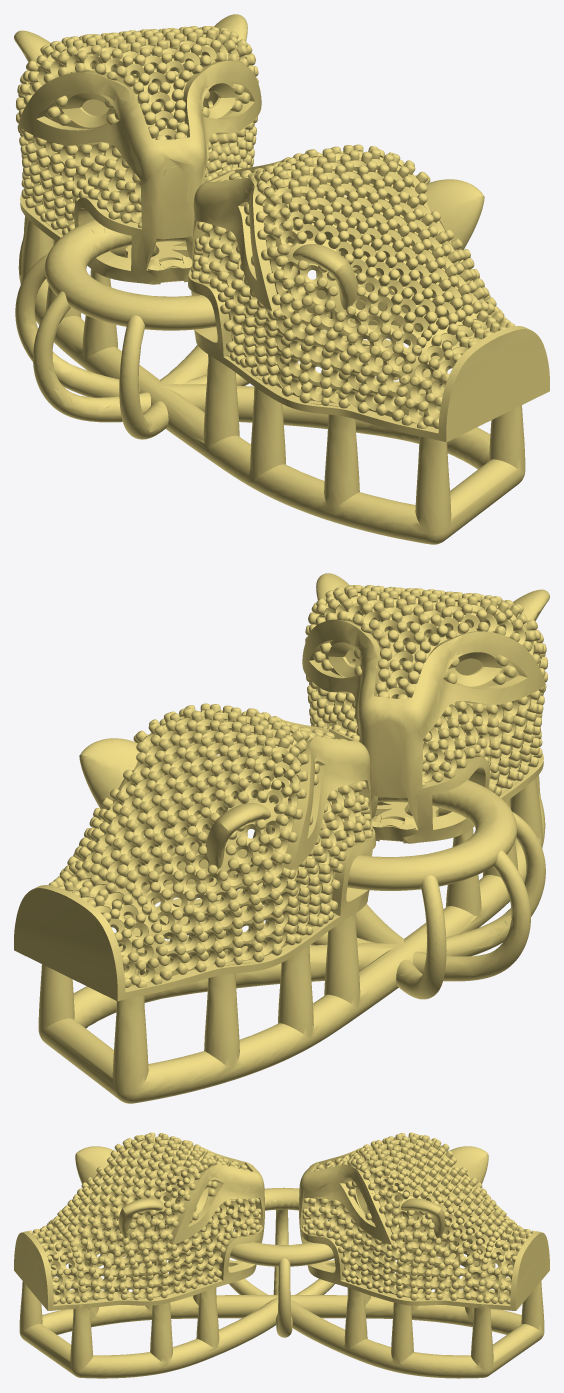
File: kaplan1_8mm.glb
3 renders of one model, top to bottom at view 1: azimuth 30°, elevation 25°; view 2: azimuth 150°, elevation 25°; view 3: azimuth 270°, elevation 25°, orthographic. The views are drawn at different scales.
Visible parts, largest first — view 1: Renderer Node; view 2: Renderer Node; view 3: Renderer Node.
Part boxes in pixels (bbox=[...]): Renderer Node: bbox=[14, 14, 549, 544]; Renderer Node: bbox=[14, 573, 549, 1103]; Renderer Node: bbox=[14, 1132, 549, 1378].
Bounding box in the file's own units: 21.25 × 18.21 × 46.08.
